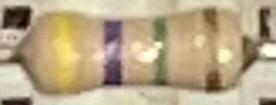Blue: (101, 18, 123, 85)
Green: (150, 13, 168, 86)
Side-Silver: (202, 6, 225, 93)
Yellow: (56, 10, 82, 93)
